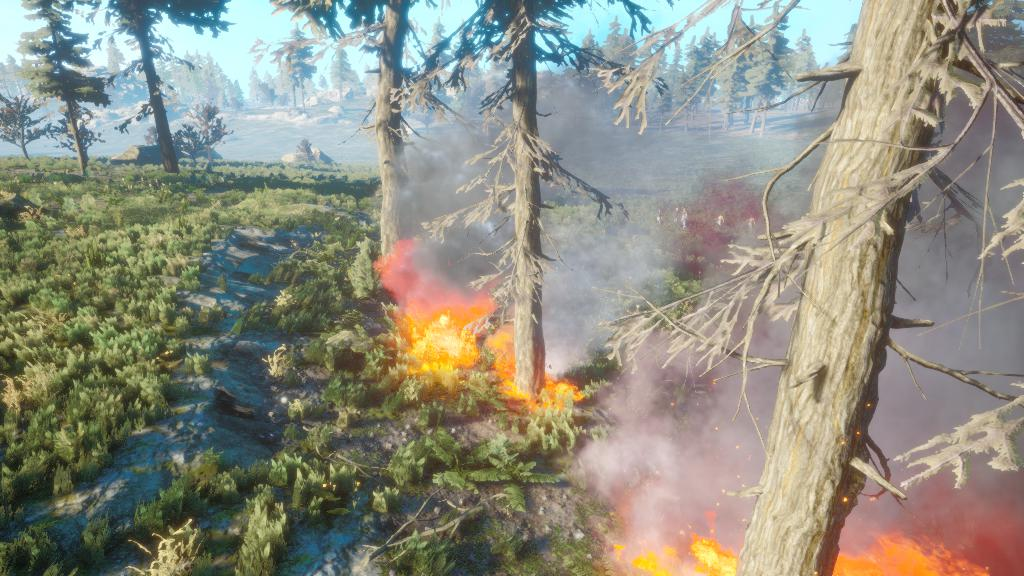Fire: (378, 285, 586, 411), (642, 508, 1023, 575)
smoke: (583, 95, 1023, 556), (395, 65, 720, 362)
